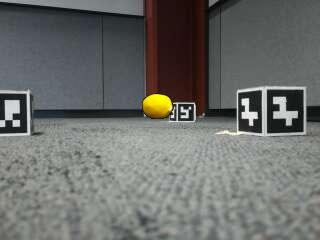lemon: (144, 95, 173, 119)
